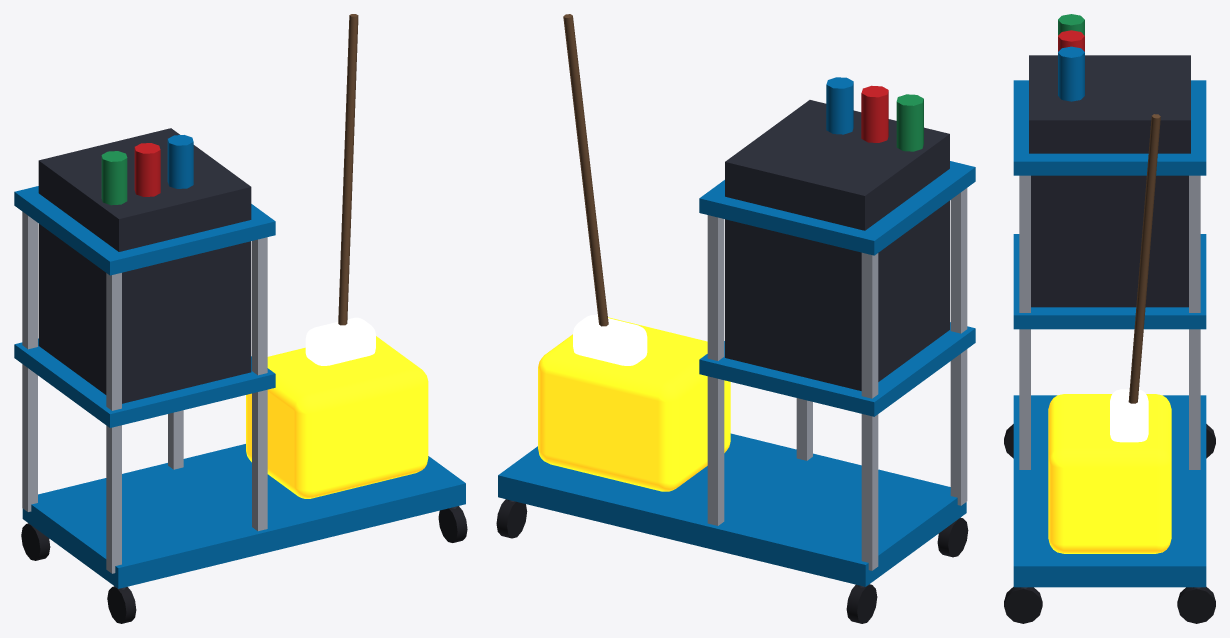
The model's file is trk-015.glb.
The picture shows the model from 3 angles, left to right: view 1: azimuth 30°, elevation 25°; view 2: azimuth 150°, elevation 25°; view 3: azimuth 270°, elevation 25°; orthographic projection. The views are drawn at different scales.
Parts seen in each view (by area): view 1: safety_blue, plastic_dark, sign_yellow, steel, walnut, display_white, rubber, safety_green, accent_red; view 2: safety_blue, plastic_dark, sign_yellow, steel, walnut, display_white, rubber, safety_green, accent_red; view 3: plastic_dark, safety_blue, sign_yellow, steel, rubber, walnut, display_white, safety_green, accent_red.
Part boxes in pixels (x1=…): safety_blue: x1=14, y1=135, x2=465, y2=588; plastic_dark: x1=38, y1=128, x2=251, y2=403; sign_yellow: x1=246, y1=336, x2=428, y2=498; steel: x1=22, y1=211, x2=267, y2=573; walnut: x1=338, y1=14, x2=358, y2=325; display_white: x1=305, y1=317, x2=375, y2=365; rubber: x1=21, y1=506, x2=467, y2=623; safety_green: x1=101, y1=151, x2=127, y2=205; accent_red: x1=134, y1=143, x2=160, y2=196; safety_blue: x1=498, y1=77, x2=975, y2=586; plastic_dark: x1=725, y1=100, x2=949, y2=390; sign_yellow: x1=538, y1=317, x2=730, y2=491; steel: x1=707, y1=188, x2=967, y2=570; walnut: x1=563, y1=14, x2=608, y2=326; display_white: x1=573, y1=315, x2=647, y2=365; rubber: x1=496, y1=499, x2=968, y2=623; safety_green: x1=896, y1=94, x2=923, y2=151; accent_red: x1=861, y1=85, x2=888, y2=142; plastic_dark: x1=1029, y1=55, x2=1190, y2=307; safety_blue: x1=1013, y1=46, x2=1206, y2=587; sign_yellow: x1=1048, y1=394, x2=1171, y2=553; steel: x1=1019, y1=175, x2=1200, y2=469; rubber: x1=1004, y1=424, x2=1215, y2=623; walnut: x1=1128, y1=114, x2=1160, y2=403; display_white: x1=1110, y1=389, x2=1148, y2=442; safety_green: x1=1058, y1=14, x2=1084, y2=35; accent_red: x1=1058, y1=30, x2=1084, y2=51.
Size of the model in its own units: 1.08 by 1.4 by 0.55.
